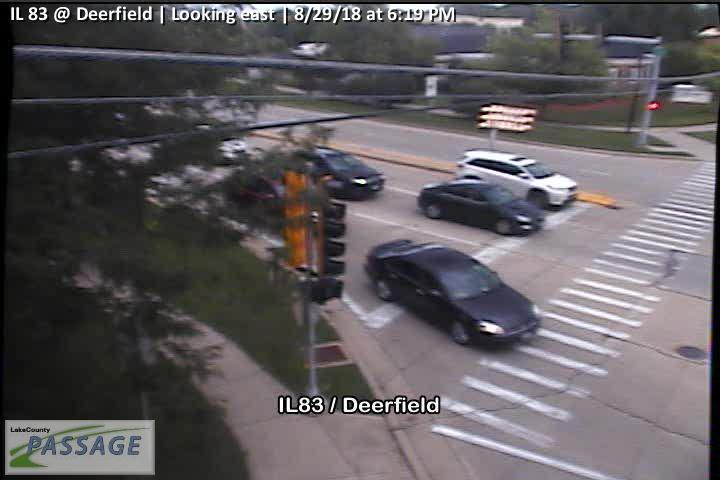SUV: (457, 148, 577, 212)
Sedan: (363, 238, 540, 349), (416, 178, 544, 236), (281, 146, 384, 200)
